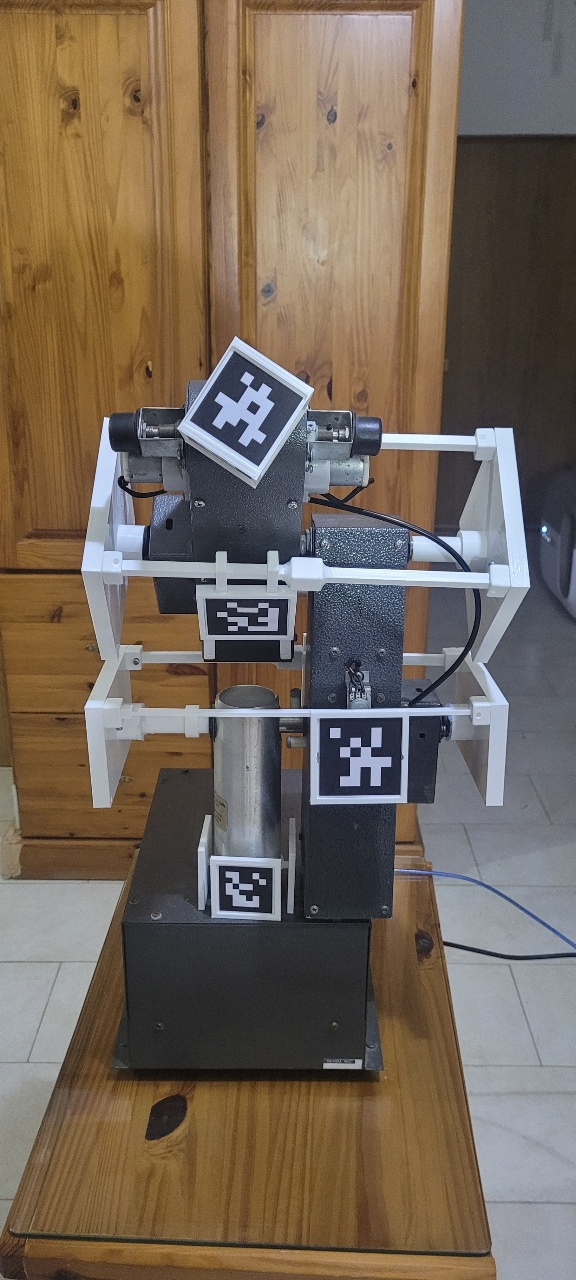Robot: (24, 228, 576, 885)
